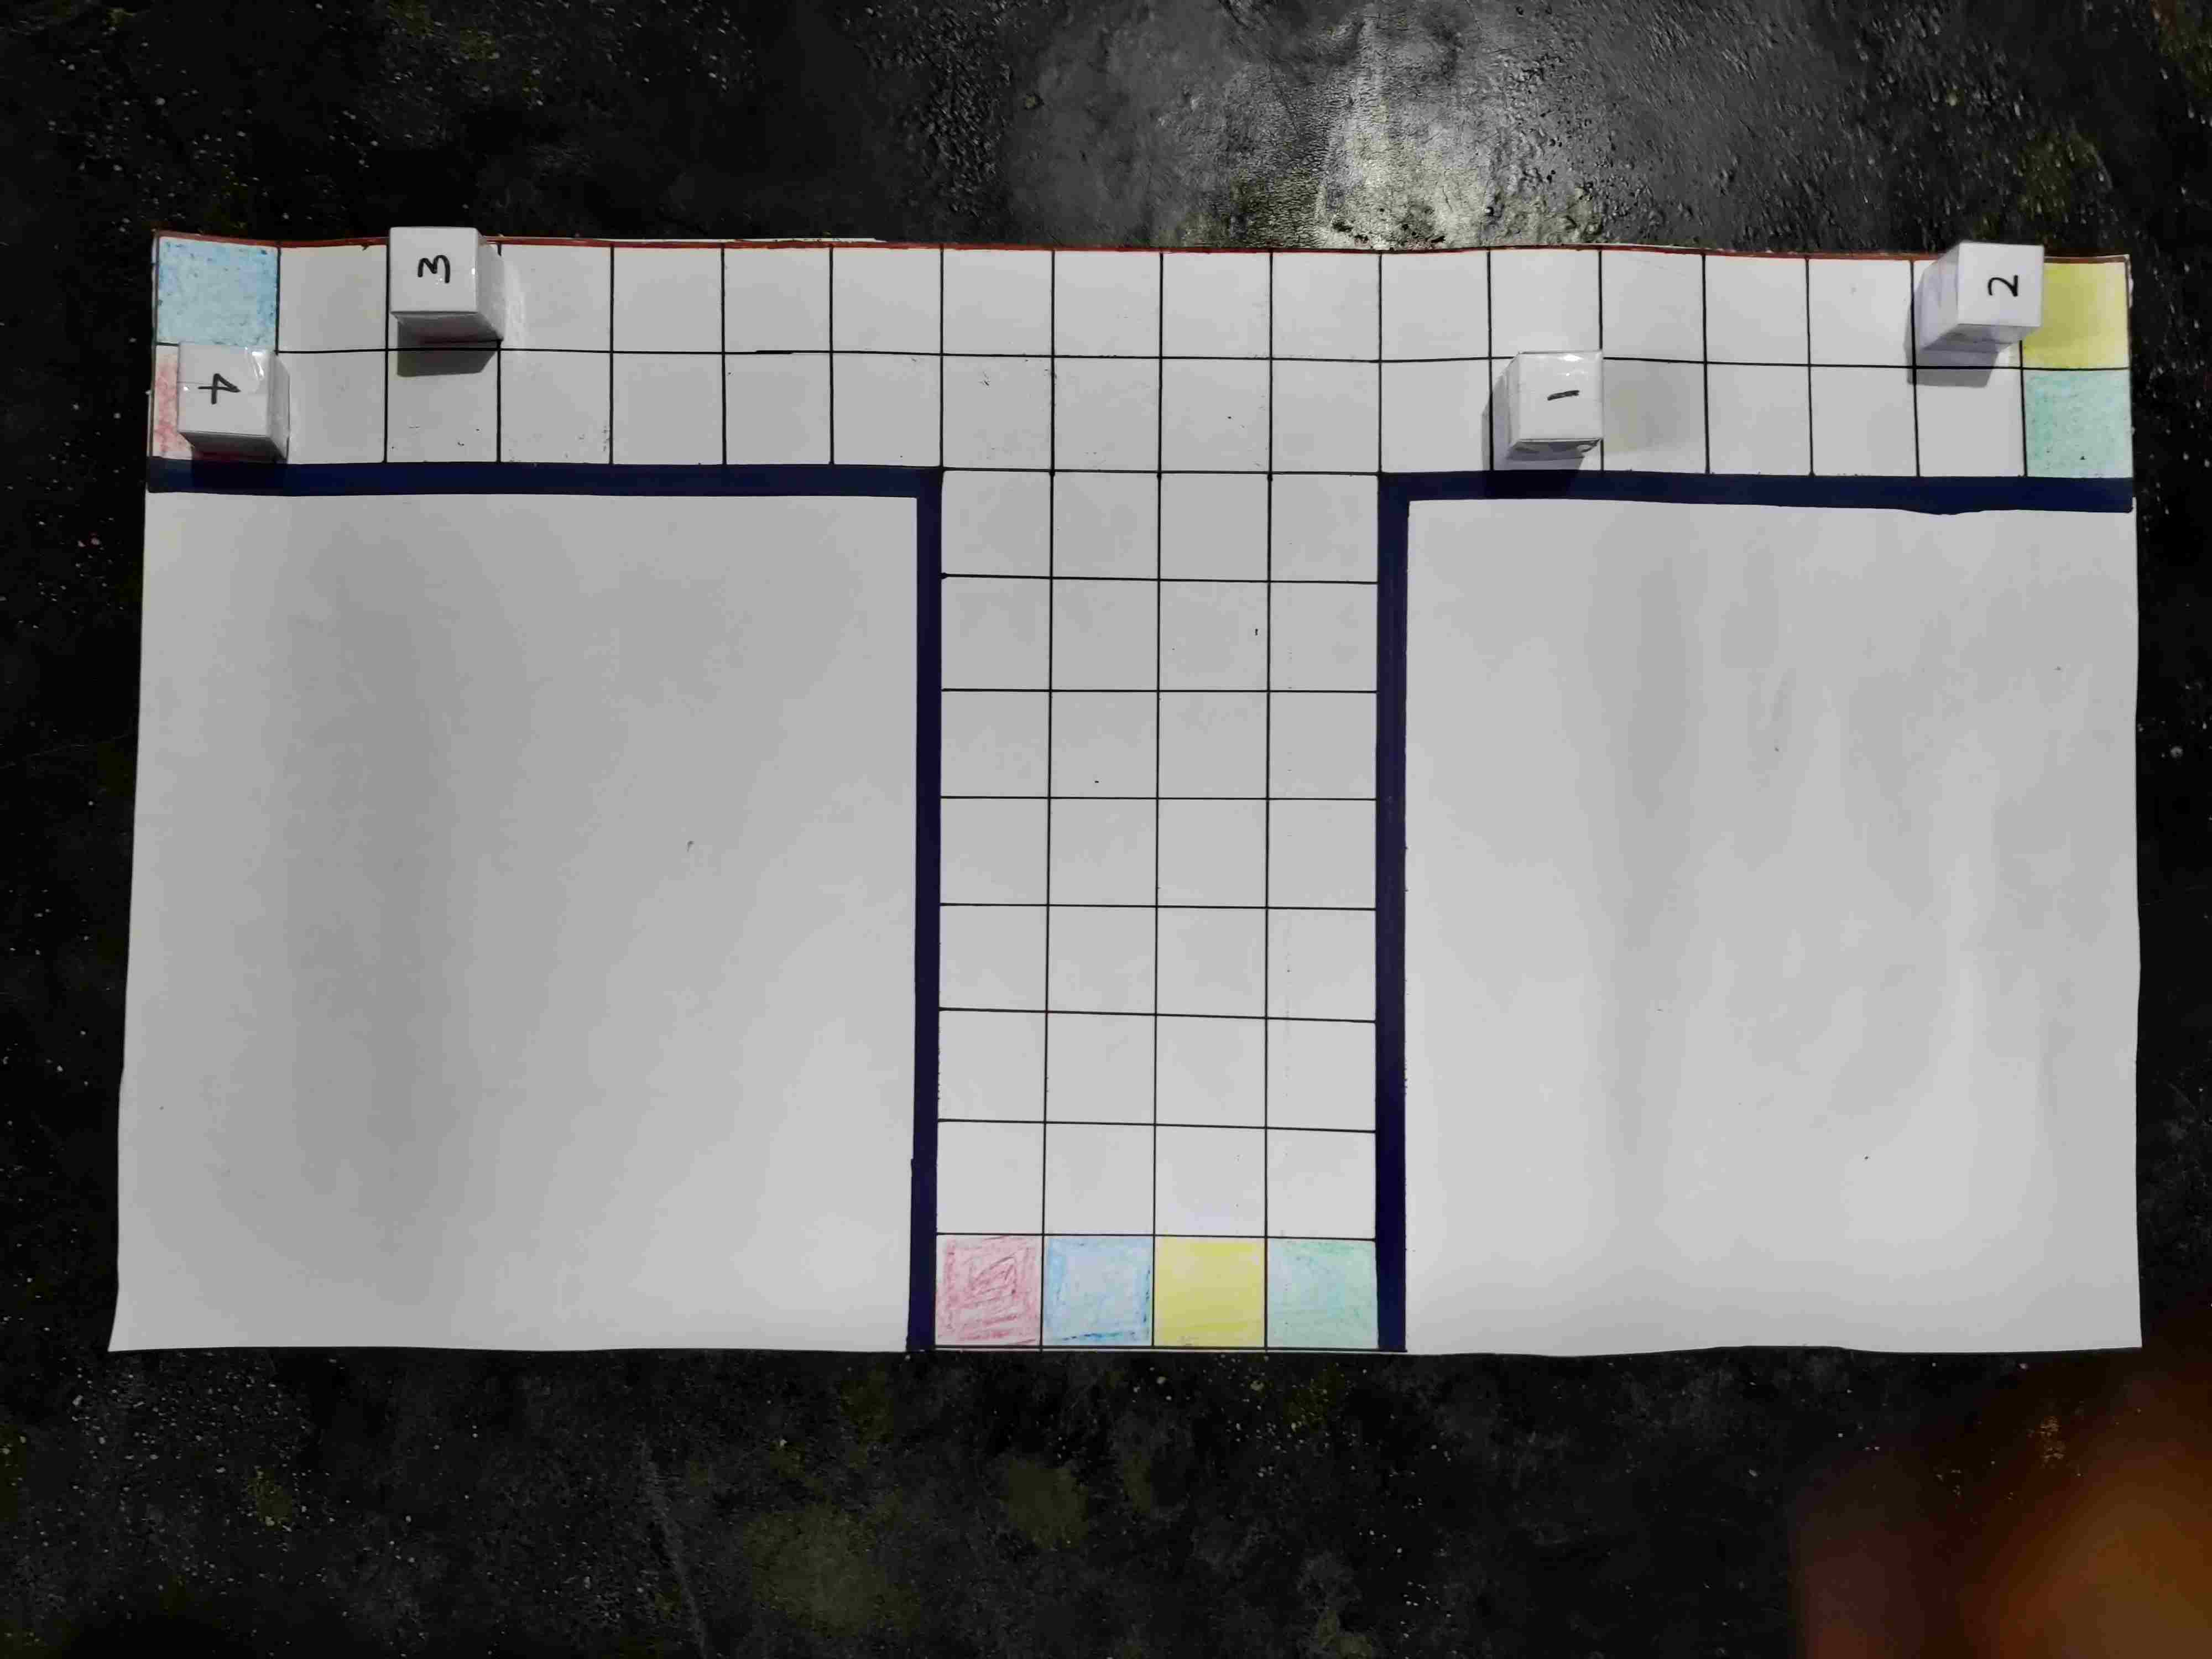arena: (80, 401, 1949, 1394)
bot: (279, 1236, 366, 1323), (352, 1349, 435, 1431), (1656, 1300, 1737, 1382), (1439, 1211, 1521, 1288)
